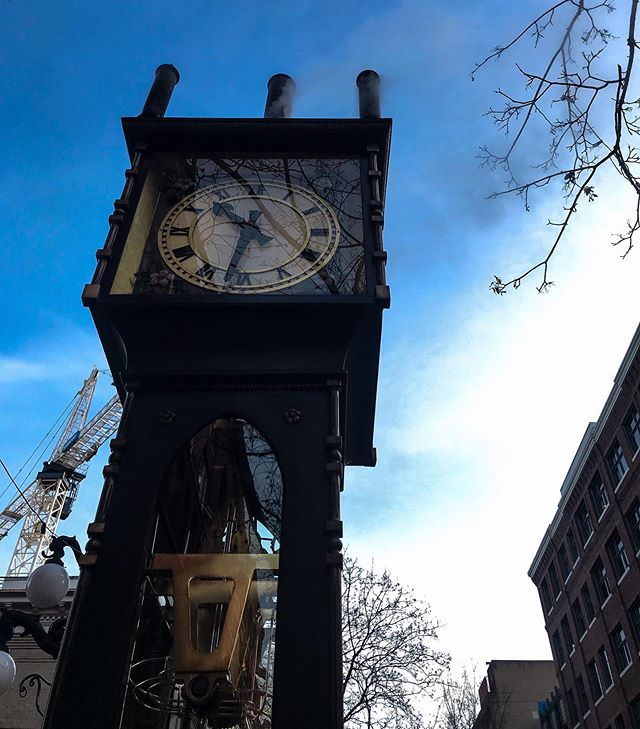building: (529, 336, 640, 729)
clock: (127, 140, 385, 294)
crane: (5, 361, 106, 564)
sky: (358, 1, 612, 594)
